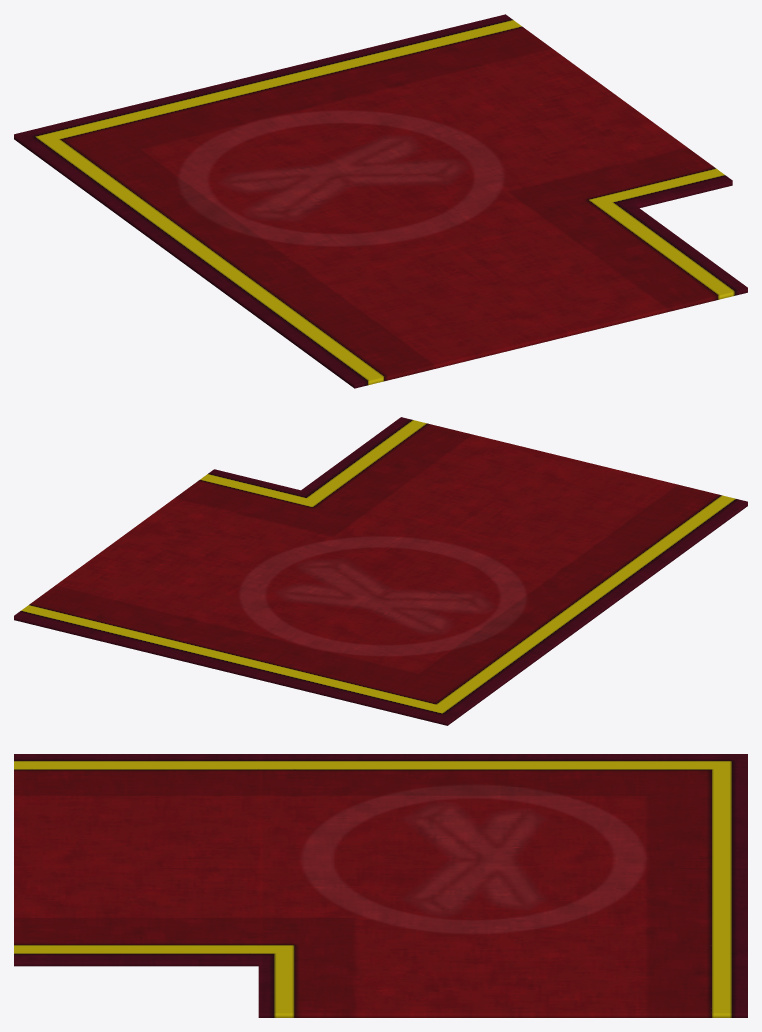
The model's file is e_castle_int_carpet_corner.fbx.
3 renders of one model, top to bottom at view 1: azimuth 30°, elevation 25°; view 2: azimuth 150°, elevation 25°; view 3: azimuth 270°, elevation 25°, orthographic. The views are drawn at different scales.
Visible parts, largest first — view 1: e_castle_int_carpet_corner; view 2: e_castle_int_carpet_corner; view 3: e_castle_int_carpet_corner.
Boxes of the visible parts, <box> form: e_castle_int_carpet_corner: <box>14,14,747,388</box>; e_castle_int_carpet_corner: <box>14,417,747,725</box>; e_castle_int_carpet_corner: <box>14,754,747,1017</box>.
Size of the model in its own units: 2.5 by 0.0241 by 3.
